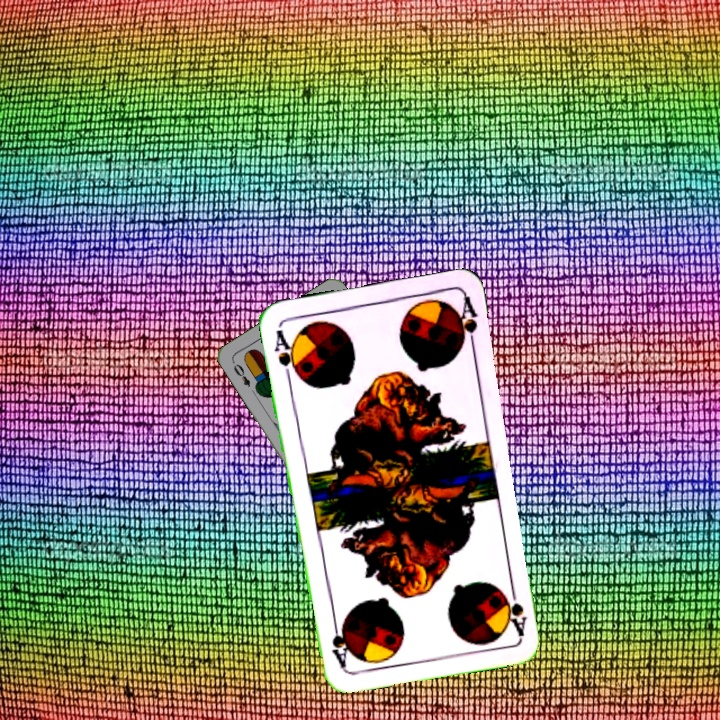EO: (228, 357, 253, 390)
SA: (270, 325, 302, 383), (499, 579, 529, 638)
